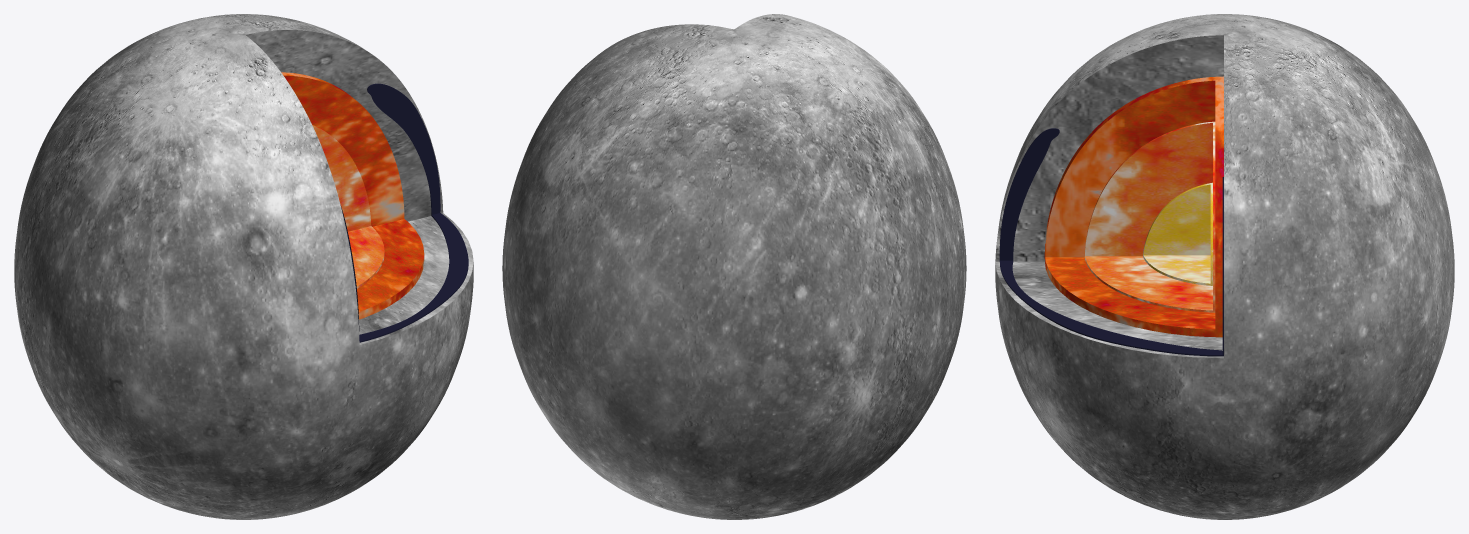
The model's file is water_body lvl 2 crossection.glb.
The picture shows the model from 3 angles, left to right: view 1: azimuth 30°, elevation 25°; view 2: azimuth 150°, elevation 25°; view 3: azimuth 270°, elevation 25°; orthographic projection.
Parts seen in each view (by area): view 1: Surface_Cross_sected, Surface_Cross_sected_crop, Mantle_Cross_sected_crop, Water Layer_Cross_sected_crop, Liquid Core_Cross_sected_crop, Mantle_Cross_sected, Water Layer_Cross_sected; view 2: Surface_Cross_sected; view 3: Surface_Cross_sected, Surface_Cross_sected_crop, Mantle_Cross_sected_crop, Liquid Core_Cross_sected_crop, Solid Core_Cross_sected_crop, Mantle_Cross_sected, Water Layer_Cross_sected_crop, Liquid Core_Cross_sected, Water Layer_Cross_sected, Solid Core_Cross_sected.
Part boxes in pixels (x1,y1,x2,y2): Surface_Cross_sected: [14, 14, 473, 519]; Surface_Cross_sected_crop: [246, 30, 473, 344]; Mantle_Cross_sected_crop: [284, 75, 424, 311]; Water Layer_Cross_sected_crop: [340, 84, 468, 340]; Liquid Core_Cross_sected_crop: [312, 125, 384, 286]; Mantle_Cross_sected: [281, 72, 424, 319]; Water Layer_Cross_sected: [343, 83, 468, 342]; Surface_Cross_sected: [502, 14, 966, 519]; Surface_Cross_sected: [995, 14, 1454, 519]; Surface_Cross_sected_crop: [995, 35, 1223, 358]; Mantle_Cross_sected_crop: [1045, 80, 1215, 329]; Liquid Core_Cross_sected_crop: [1085, 123, 1212, 310]; Solid Core_Cross_sected_crop: [1143, 184, 1210, 283]; Mantle_Cross_sected: [1044, 76, 1223, 337]; Water Layer_Cross_sected_crop: [999, 129, 1221, 354]; Liquid Core_Cross_sected: [1084, 121, 1215, 312]; Water Layer_Cross_sected: [999, 128, 1223, 356]; Solid Core_Cross_sected: [1143, 182, 1212, 285].
Bounding box in the file's own units: 1.93 × 2.16 × 1.93.
8 materials, 6 textured.
